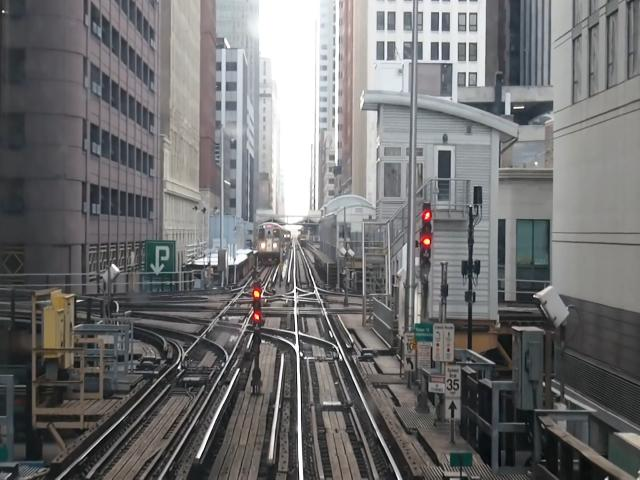signal light: (420, 203, 434, 276), (252, 282, 265, 348)
